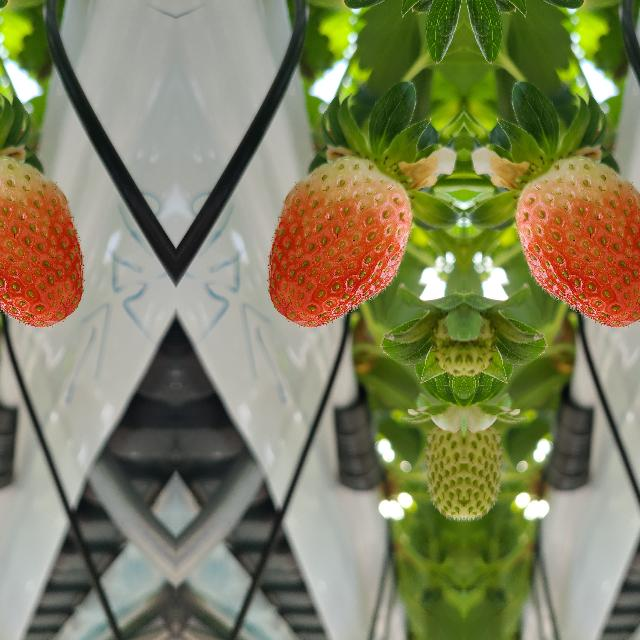Health_100: (265, 154, 413, 328), (513, 154, 640, 327), (0, 154, 85, 327)
Health_25: (423, 401, 463, 527), (463, 401, 503, 527)
